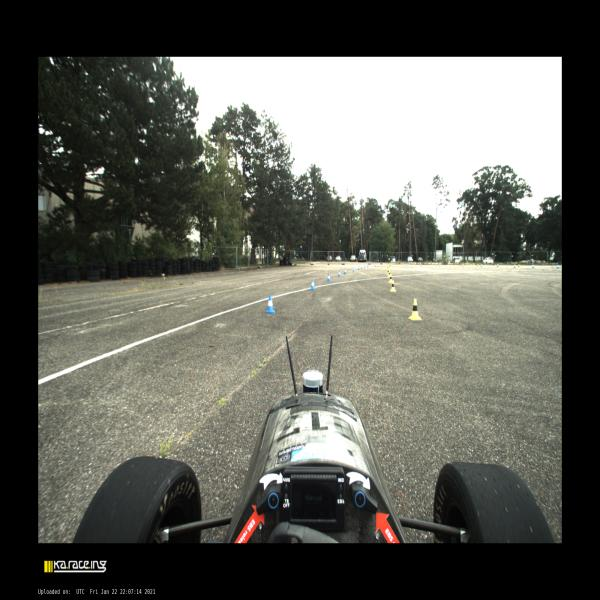blue_cone: (266, 295, 275, 314), (310, 279, 315, 290), (327, 274, 331, 282), (338, 270, 341, 277), (344, 268, 347, 274), (532, 264, 535, 268), (352, 267, 354, 272), (557, 264, 559, 269), (358, 266, 360, 270), (514, 264, 516, 268), (367, 264, 369, 267), (405, 263, 407, 266), (439, 263, 441, 266), (480, 264, 482, 267), (364, 264, 365, 268), (462, 264, 464, 266), (420, 263, 421, 266), (375, 264, 376, 266)
yellow_cone: (408, 299, 422, 320), (390, 280, 397, 292), (389, 274, 392, 283), (517, 264, 520, 270), (388, 271, 390, 277), (387, 266, 389, 270), (497, 264, 499, 268), (387, 269, 388, 275), (390, 264, 392, 267), (399, 263, 401, 266), (415, 263, 417, 266), (459, 264, 461, 267), (476, 264, 478, 267), (389, 265, 390, 267), (436, 264, 437, 266)
